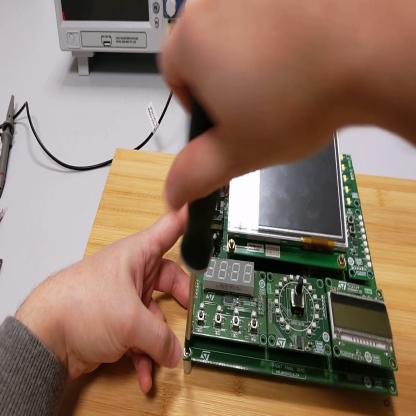hand: (50, 205, 198, 394)
low voltage board: (184, 131, 398, 394)
oscilloscope: (55, 1, 180, 79)
oscilloscope probe tip: (2, 90, 17, 197)
screwdriver-: (157, 3, 355, 216), (181, 98, 213, 349)
working area: (60, 147, 416, 415)
